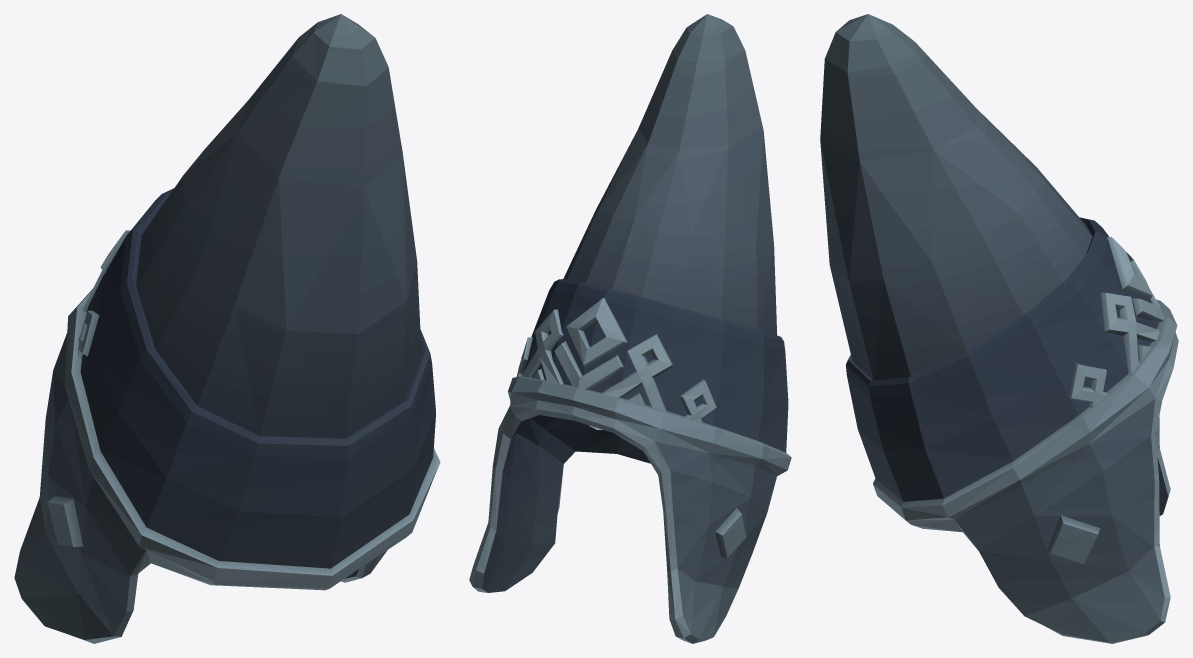
The model's file is CharSkyKid_Hair_AP11ConeHat_01.glb.
The picture shows the model from 3 angles, left to right: view 1: azimuth 30°, elevation 25°; view 2: azimuth 150°, elevation 25°; view 3: azimuth 270°, elevation 25°; orthographic projection. The views are drawn at different scales.
Parts seen in each view (by area): view 1: CharSkyKid_Hair_AP11ConeHat_01; view 2: CharSkyKid_Hair_AP11ConeHat_01; view 3: CharSkyKid_Hair_AP11ConeHat_01.
Part boxes in pixels (bbox=[...]): CharSkyKid_Hair_AP11ConeHat_01: bbox=[14, 14, 440, 643]; CharSkyKid_Hair_AP11ConeHat_01: bbox=[469, 14, 791, 643]; CharSkyKid_Hair_AP11ConeHat_01: bbox=[820, 14, 1178, 643].
Bounding box in the file's own units: 2.73 × 5.75 × 3.24.
1 material, 1 textured.
